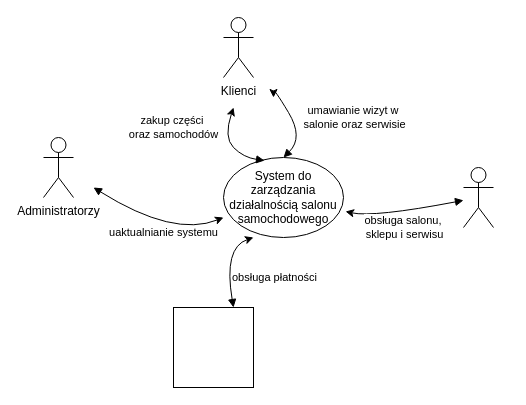
The diagram is 526 pixels wide and 405 high, and some of its shapes have lost their labels. The centre of each missing label's shape, as x and y in pixels:
"Pracownicy" goes at point 478,197.
"zewnętrzny system płatności" goes at point 213,347.
